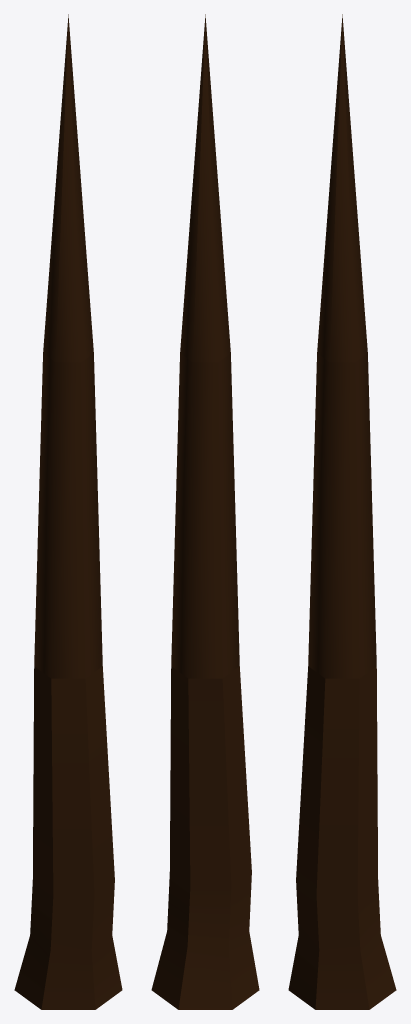
File: Tree3Stem.glb
3 renders of one model, left to right at view 1: azimuth 30°, elevation 25°; view 2: azimuth 150°, elevation 25°; view 3: azimuth 330°, elevation 25°, orthographic.
Parts seen in each view (by area): view 1: Tree3 Stem; view 2: Tree3 Stem; view 3: Tree3 Stem.
Boxes of the visible parts, bbox=[...] form: Tree3 Stem: bbox=[14, 14, 122, 1009]; Tree3 Stem: bbox=[151, 14, 259, 1009]; Tree3 Stem: bbox=[288, 14, 396, 1009].
Bounding box in the file's own units: 0.4367 × 5.02 × 0.5042.
